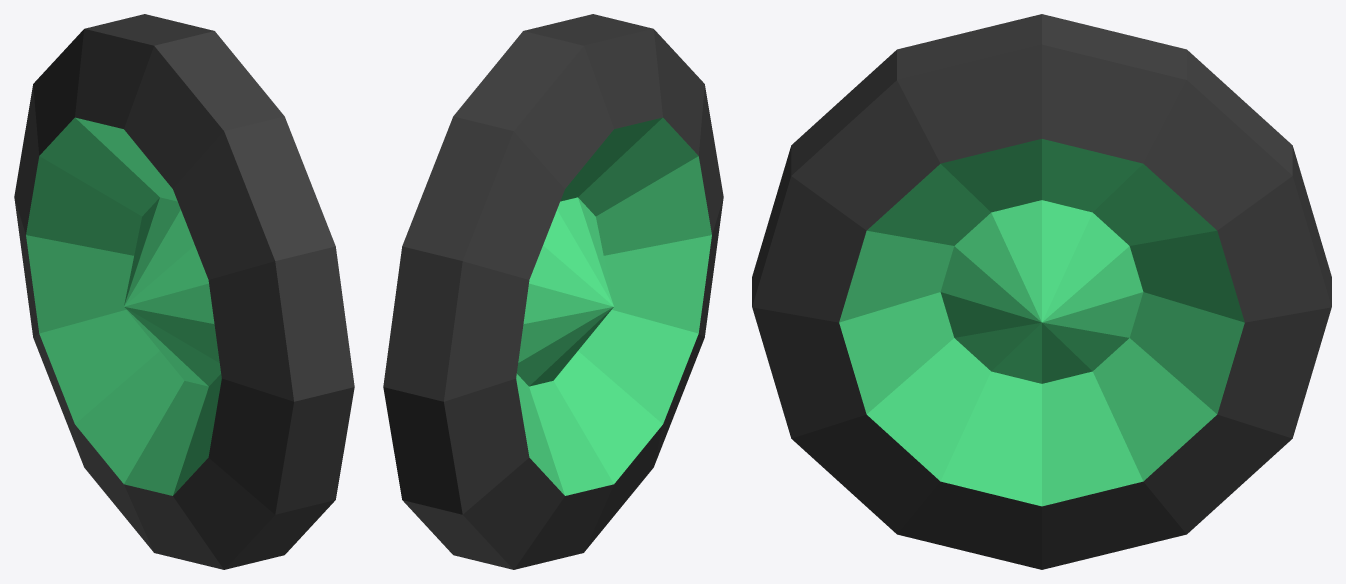
Rendered from wheel.FBX.
3 renders of one model, left to right at view 1: azimuth 30°, elevation 25°; view 2: azimuth 150°, elevation 25°; view 3: azimuth 270°, elevation 25°, orthographic. The views are drawn at different scales.
Parts seen in each view (by area): view 1: VIFS002, VIFS001; view 2: VIFS002, VIFS001; view 3: VIFS002, VIFS001.
Part boxes in pixels (left/top/right/bottom): VIFS002: left=14, top=14, right=354, bottom=569; VIFS001: left=26, top=117, right=221, bottom=495; VIFS002: left=383, top=14, right=723, bottom=569; VIFS001: left=516, top=117, right=711, bottom=495; VIFS002: left=752, top=14, right=1331, bottom=569; VIFS001: left=839, top=139, right=1244, bottom=506.
Bounding box in the file's own units: 0.1 × 0.4 × 0.4.
